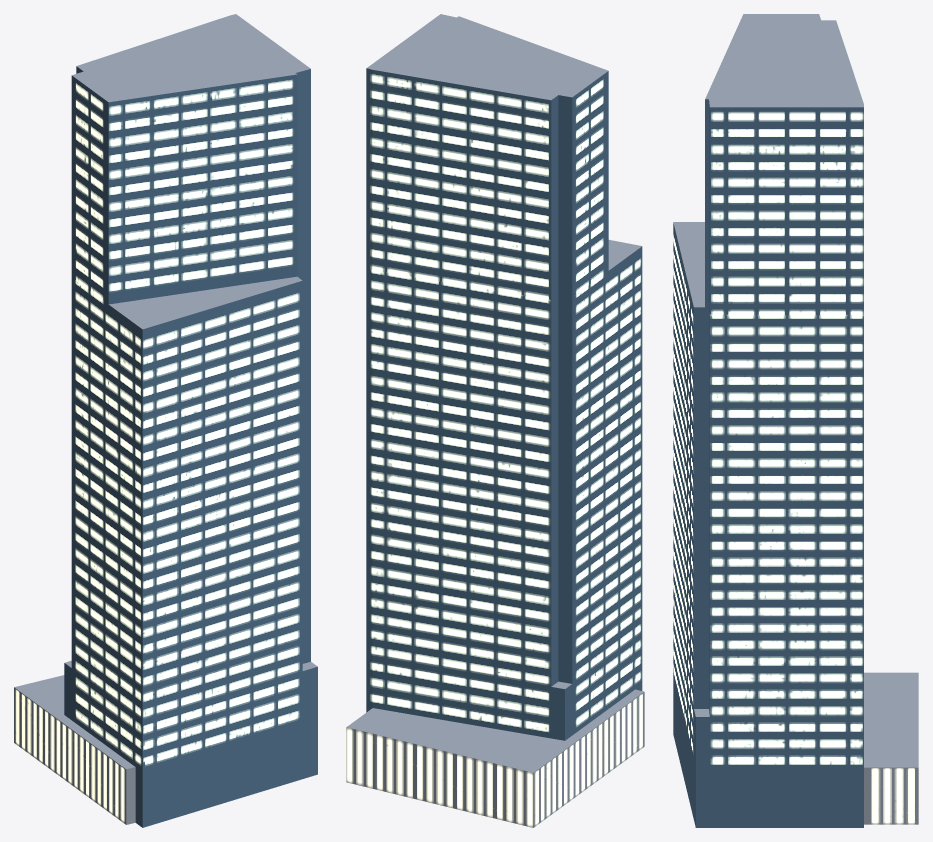
The model's file is 4WTC.fbx.
The picture shows the model from 3 angles, left to right: view 1: azimuth 30°, elevation 25°; view 2: azimuth 150°, elevation 25°; view 3: azimuth 270°, elevation 25°; orthographic projection. The views are drawn at different scales.
Parts seen in each view (by area): view 1: 4WTC; view 2: 4WTC; view 3: 4WTC.
Boxes of the visible parts, left/top/right/bottom form: 4WTC: left=14, top=14, right=317, bottom=827; 4WTC: left=346, top=14, right=644, bottom=827; 4WTC: left=673, top=14, right=918, bottom=827.
Size of the model in its own units: 3798 by 13014 by 4015.
1 material, 1 textured.
